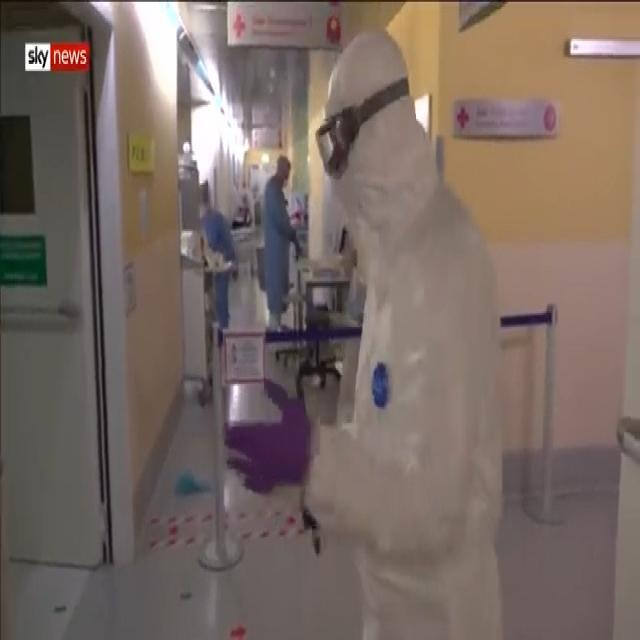Goggles: (310, 87, 403, 178)
